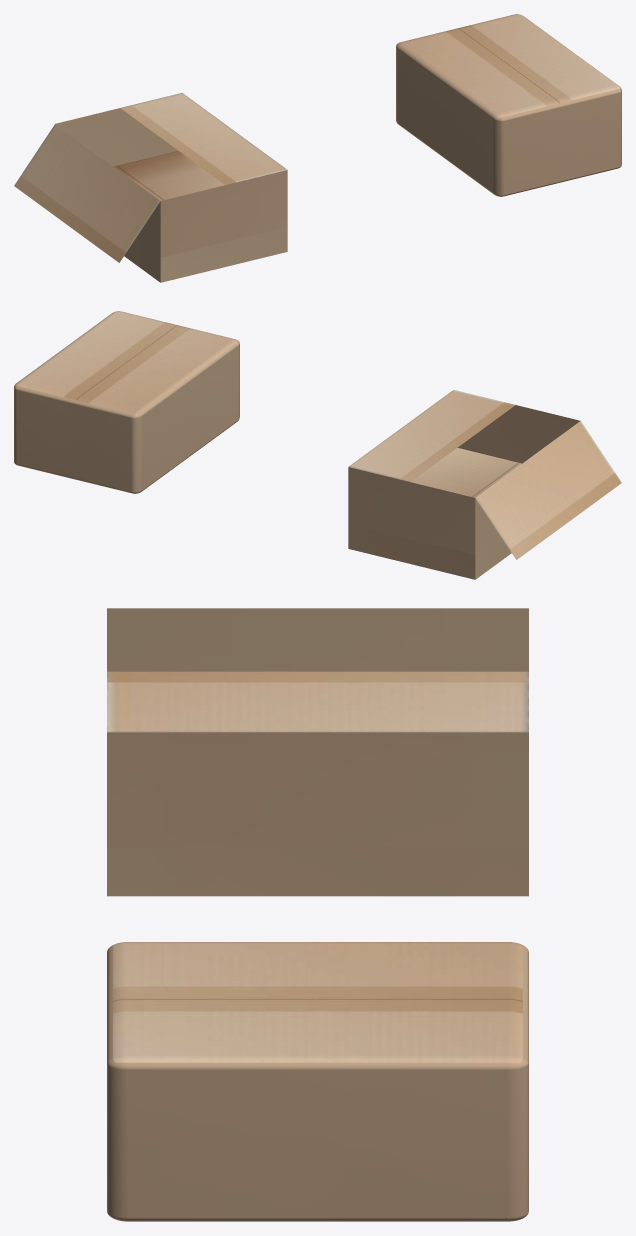
The picture shows the model from 3 angles, top to bottom: view 1: azimuth 30°, elevation 25°; view 2: azimuth 150°, elevation 25°; view 3: azimuth 270°, elevation 25°; orthographic projection. The views are drawn at different scales.
Parts seen in each view (by area): view 1: Cube, Cube.001; view 2: Cube, Cube.001; view 3: Cube, Cube.001.
Boxes of the visible parts, <box> form: Cube: <box>14,93,287,282</box>; Cube.001: <box>396,14,621,196</box>; Cube: <box>348,390,621,579</box>; Cube.001: <box>14,311,239,493</box>; Cube: <box>107,608,528,896</box>; Cube.001: <box>107,942,528,1221</box>.
Bounding box in the file's own units: 38.79 × 6 × 14.
Materials: 2 (2 with a texture image).
